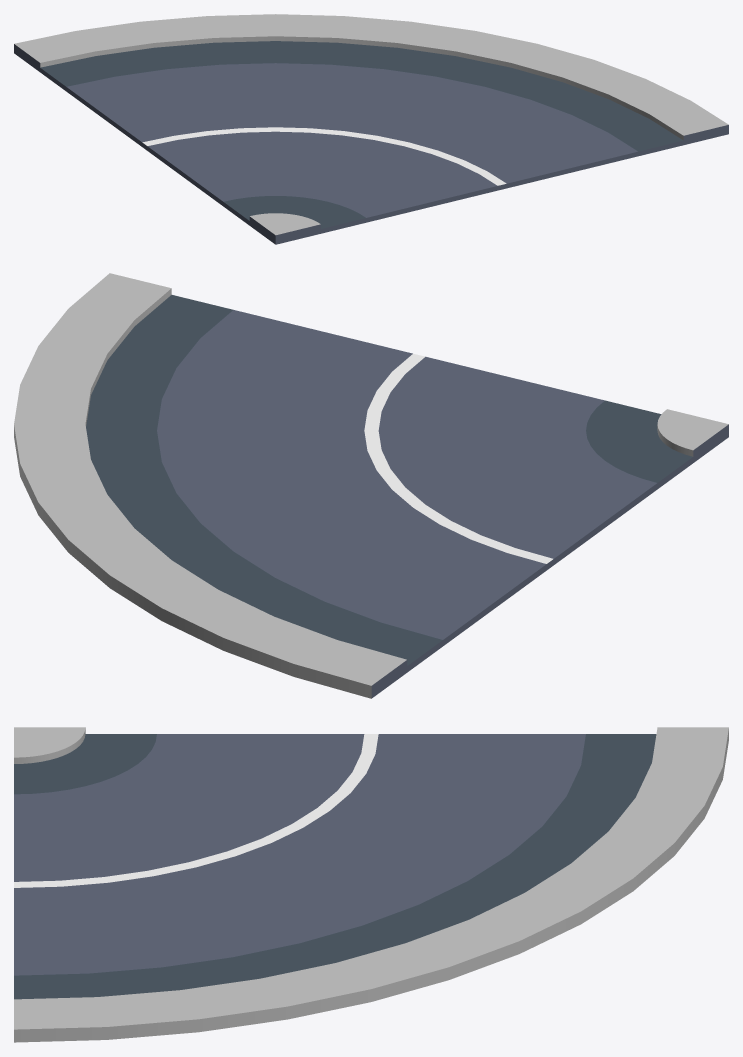
File: SM_Road_Bend.fbx
The picture shows the model from 3 angles, top to bottom: view 1: azimuth 30°, elevation 25°; view 2: azimuth 150°, elevation 25°; view 3: azimuth 270°, elevation 25°; orthographic projection. The views are drawn at different scales.
Parts seen in each view (by area): view 1: SM_Road_Bend; view 2: SM_Road_Bend; view 3: SM_Road_Bend.
Boxes of the visible parts, left/top/right/bottom form: SM_Road_Bend: left=14, top=14, right=728, bottom=244; SM_Road_Bend: left=14, top=273, right=728, bottom=698; SM_Road_Bend: left=14, top=727, right=728, bottom=1042.
Size of the model in its own units: 1000 by 20 by 1000.
